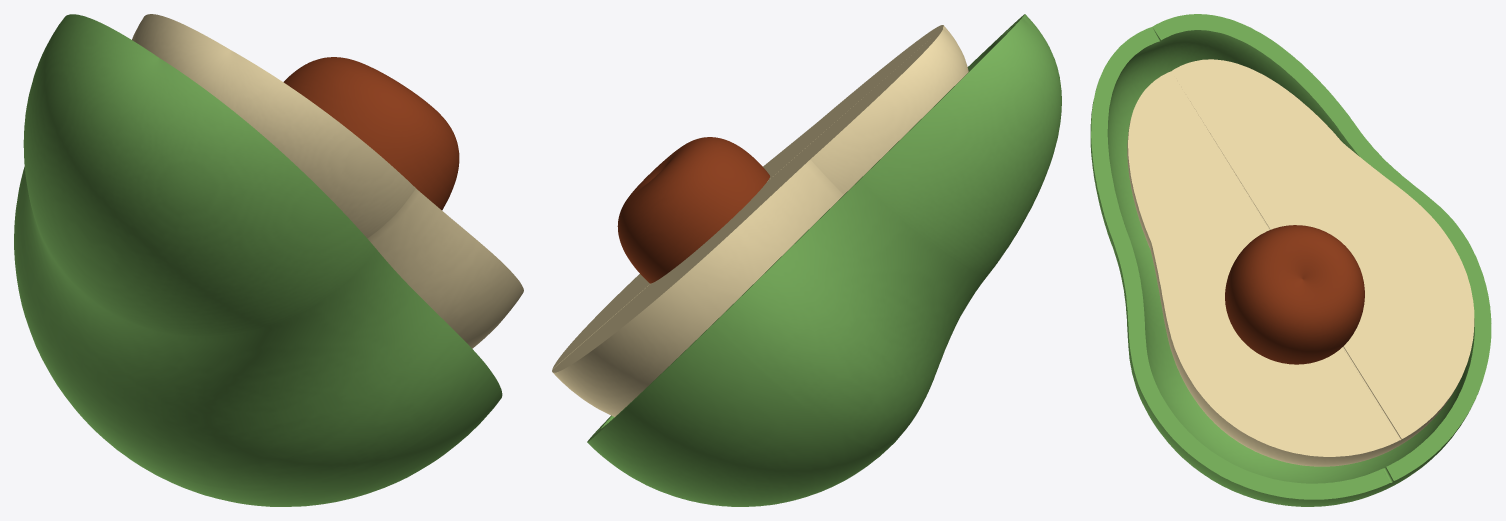
The picture shows the model from 3 angles, left to right: view 1: azimuth 30°, elevation 25°; view 2: azimuth 150°, elevation 25°; view 3: azimuth 270°, elevation 25°; orthographic projection. The views are drawn at different scales.
Parts seen in each view (by area): view 1: groupNumber_0, groupNumber_0 6, groupNumber_0 2; view 2: groupNumber_0, groupNumber_0 6, groupNumber_0 2; view 3: groupNumber_0 6, groupNumber_0, groupNumber_0 2.
Boxes of the visible parts, left/top/right/bottom form: groupNumber_0: left=14, top=14, right=502, bottom=506; groupNumber_0 6: left=132, top=14, right=523, bottom=348; groupNumber_0 2: left=283, top=57, right=459, bottom=210; groupNumber_0: left=587, top=14, right=1061, bottom=506; groupNumber_0 6: left=552, top=25, right=968, bottom=416; groupNumber_0 2: left=617, top=137, right=769, bottom=283; groupNumber_0 6: left=1127, top=59, right=1474, bottom=466; groupNumber_0: left=1090, top=14, right=1491, bottom=506; groupNumber_0 2: left=1225, top=225, right=1364, bottom=364.
Bounding box in the file's own units: 3.09 × 3.37 × 3.14.
